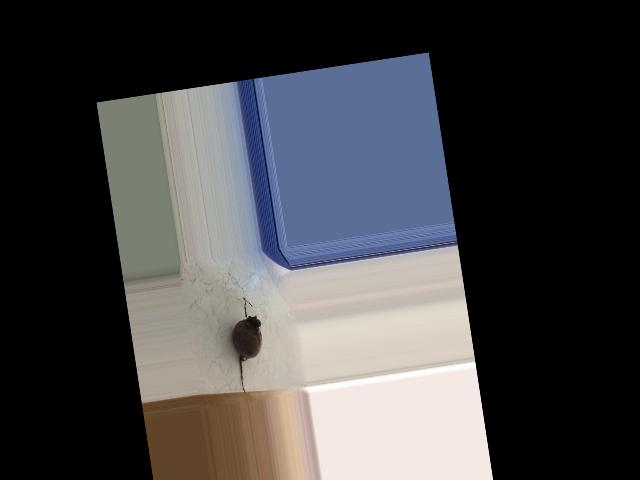beet: (226, 296, 270, 396)
